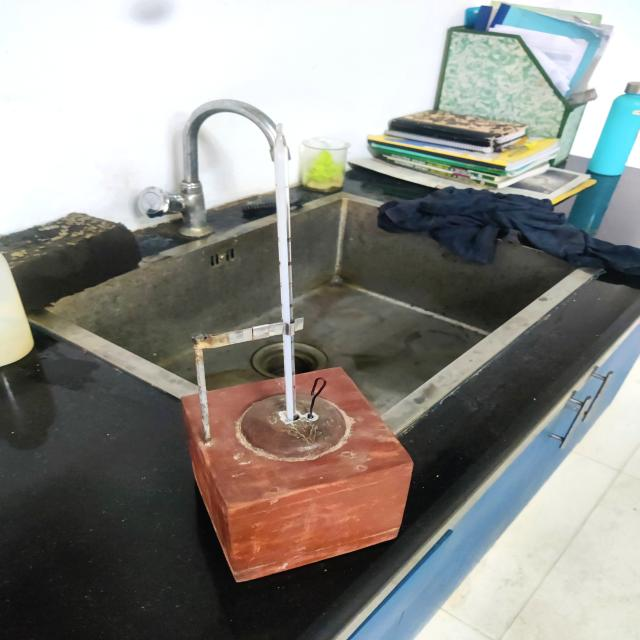Calorimeter: (153, 113, 420, 612)
